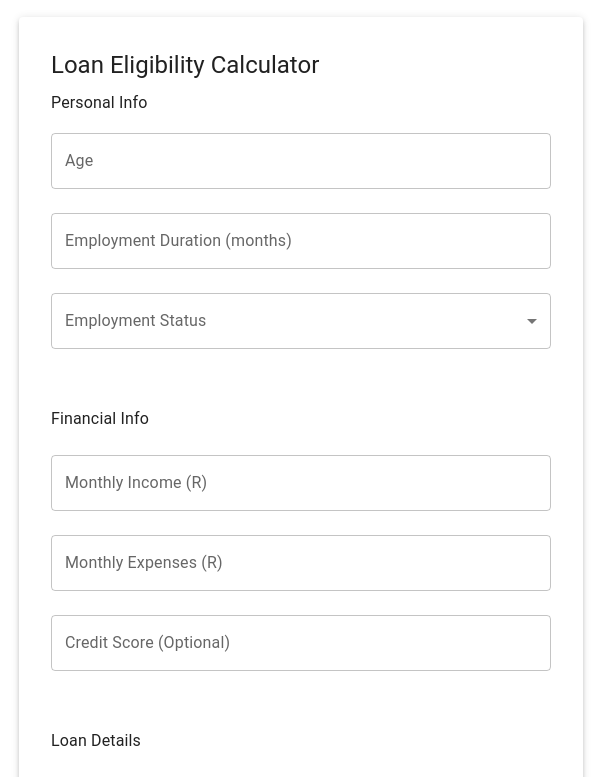
Test: LoanForm › validates max/min boundaries (credit score)
In the number field labelled "Credit Score (Optional)": x=301, y=643 [51,615,551,671], type "900"
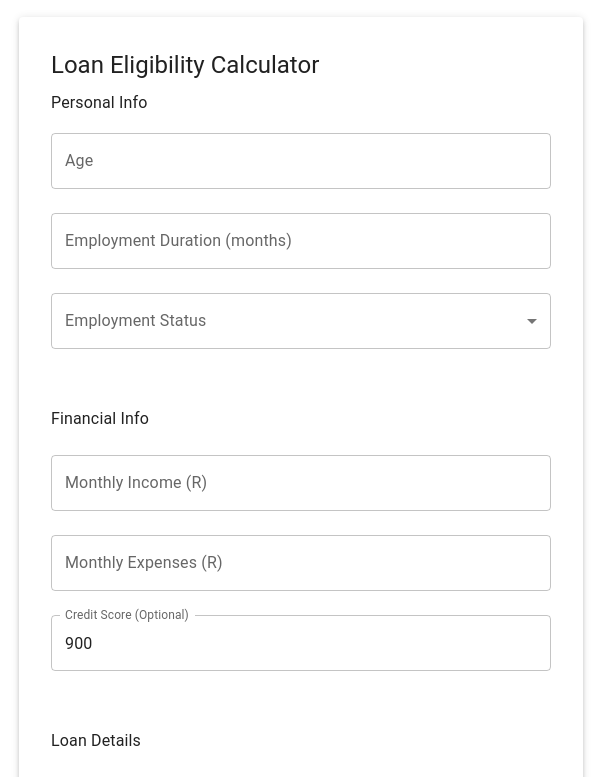
Leave the number field labelled "Credit Score (Optional)", box [51,615,551,671]
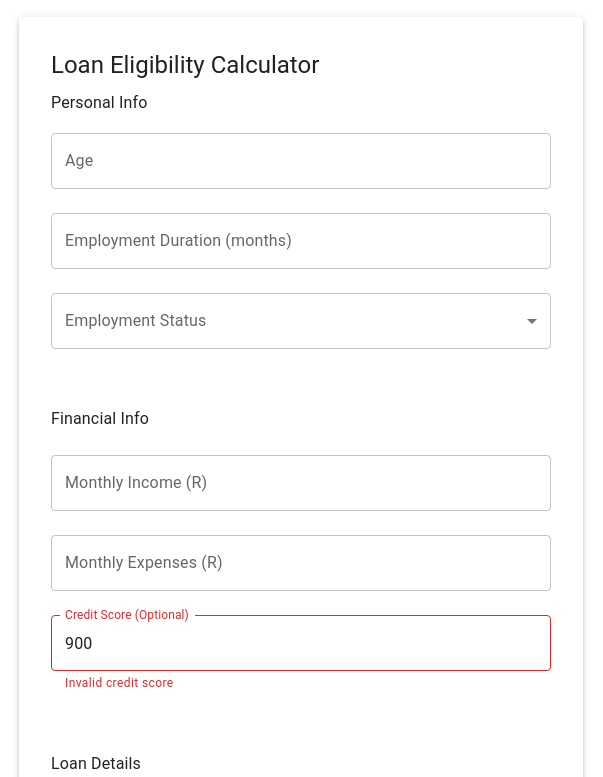
Check: the text "Invalid credit score" is shown, box [65,676,174,690]
